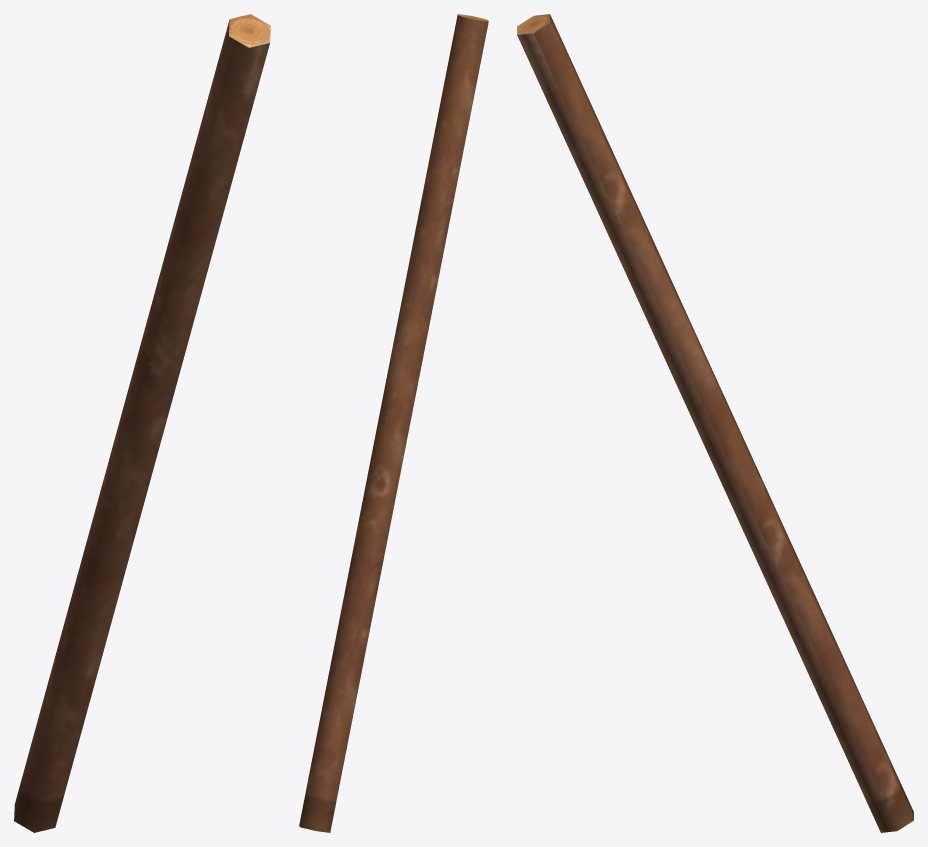
The model's file is stick.fbx.
3 renders of one model, left to right at view 1: azimuth 30°, elevation 25°; view 2: azimuth 150°, elevation 25°; view 3: azimuth 270°, elevation 25°, orthographic. The views are drawn at different scales.
Visible parts, largest first — view 1: stick; view 2: stick; view 3: stick.
Boxes of the visible parts, x1,y1,x2,y2 form: stick: [14, 14, 270, 832]; stick: [299, 14, 488, 832]; stick: [517, 14, 913, 832].
Size of the model in its own units: 49.98 by 1085 by 482.
